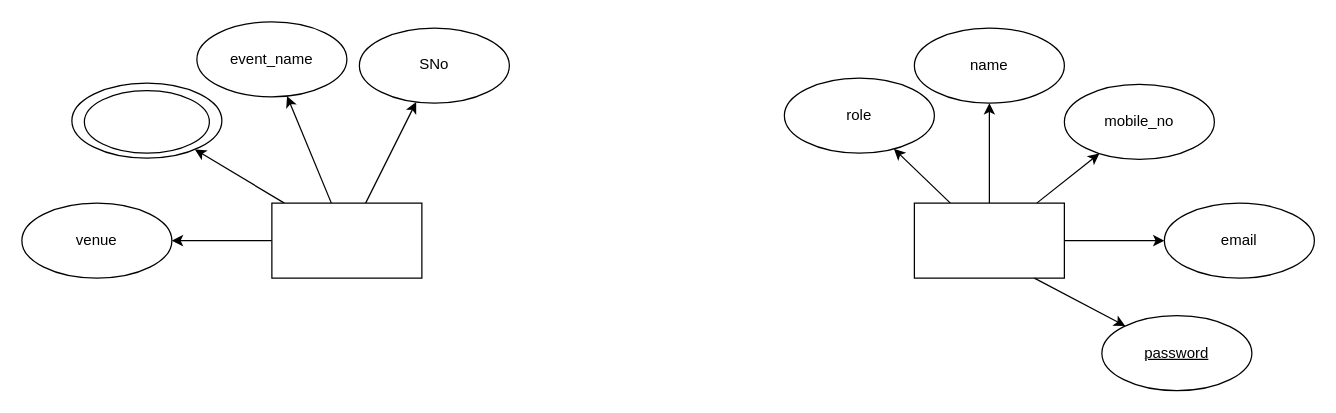
The diagram is 1336 pixels wide and 413 high, and some of its shapes have lost their labels. The centre of each missing label's shape, as x and y in pixels:
"details" goes at point 146,121.
"Events" goes at point 346,240.
"User" goes at point 988,240.
